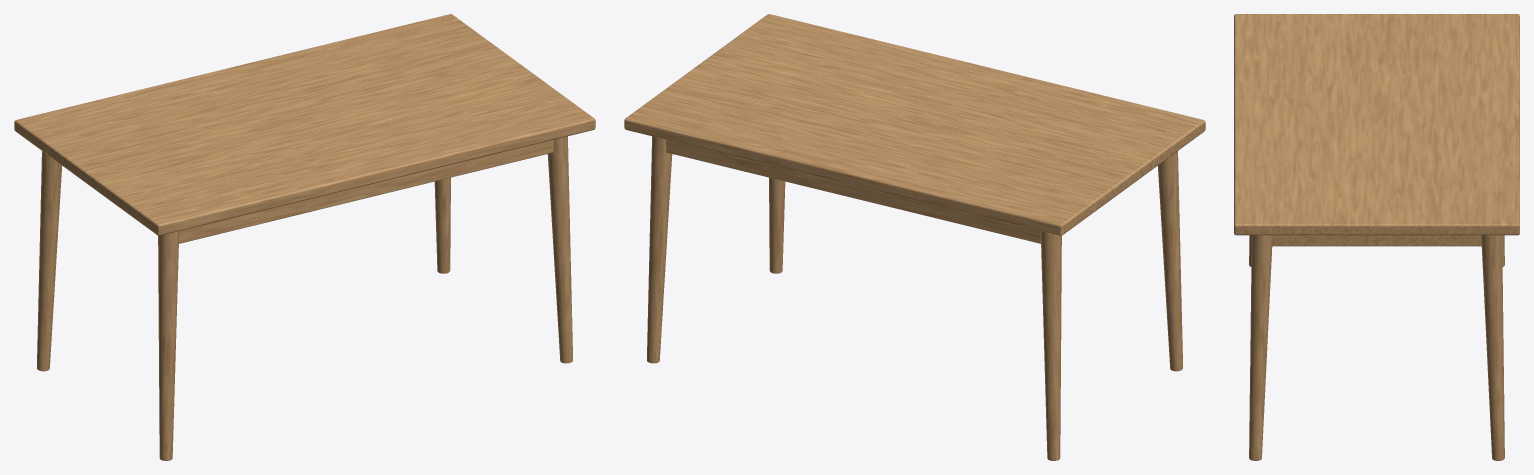
Rendered from dining_table.glb.
3 renders of one model, left to right at view 1: azimuth 30°, elevation 25°; view 2: azimuth 150°, elevation 25°; view 3: azimuth 270°, elevation 25°, orthographic.
Parts seen in each view (by area): view 1: Cube; view 2: Cube; view 3: Cube.
Boxes of the visible parts, x1,y1,x2,y2 form: Cube: (14,14,595,460); Cube: (624,14,1205,460); Cube: (1234,14,1519,460).
Bounding box in the file's own units: 1.4 × 0.7507 × 0.8.
Materials: 1 (1 with a texture image).
